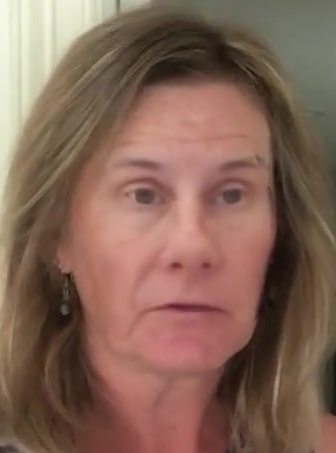eb_f: (105, 149, 272, 215)
